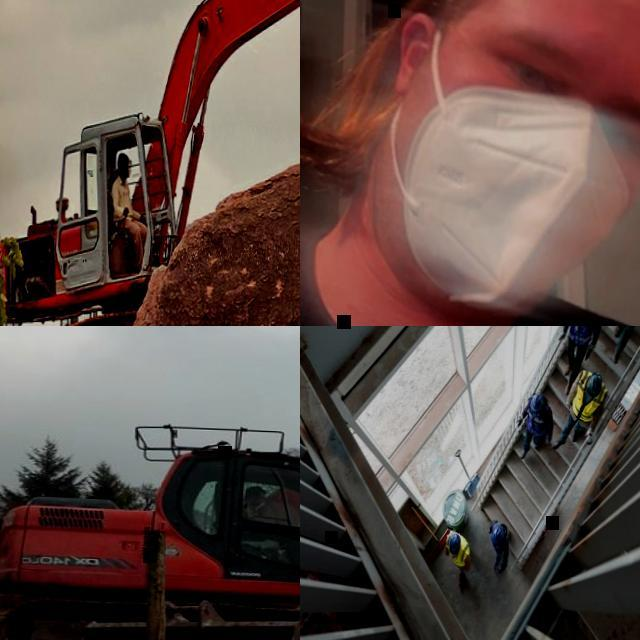helmet: (586, 371, 602, 397), (529, 392, 543, 415), (492, 524, 504, 546), (450, 533, 460, 554)
vest: (572, 369, 608, 421), (527, 394, 550, 432), (446, 530, 470, 566), (568, 326, 598, 344)
